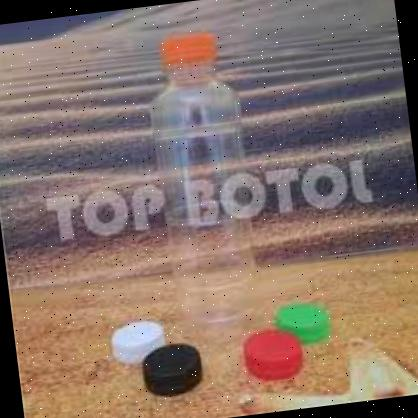bottle: (128, 13, 272, 340)
cap: (156, 30, 224, 76)
